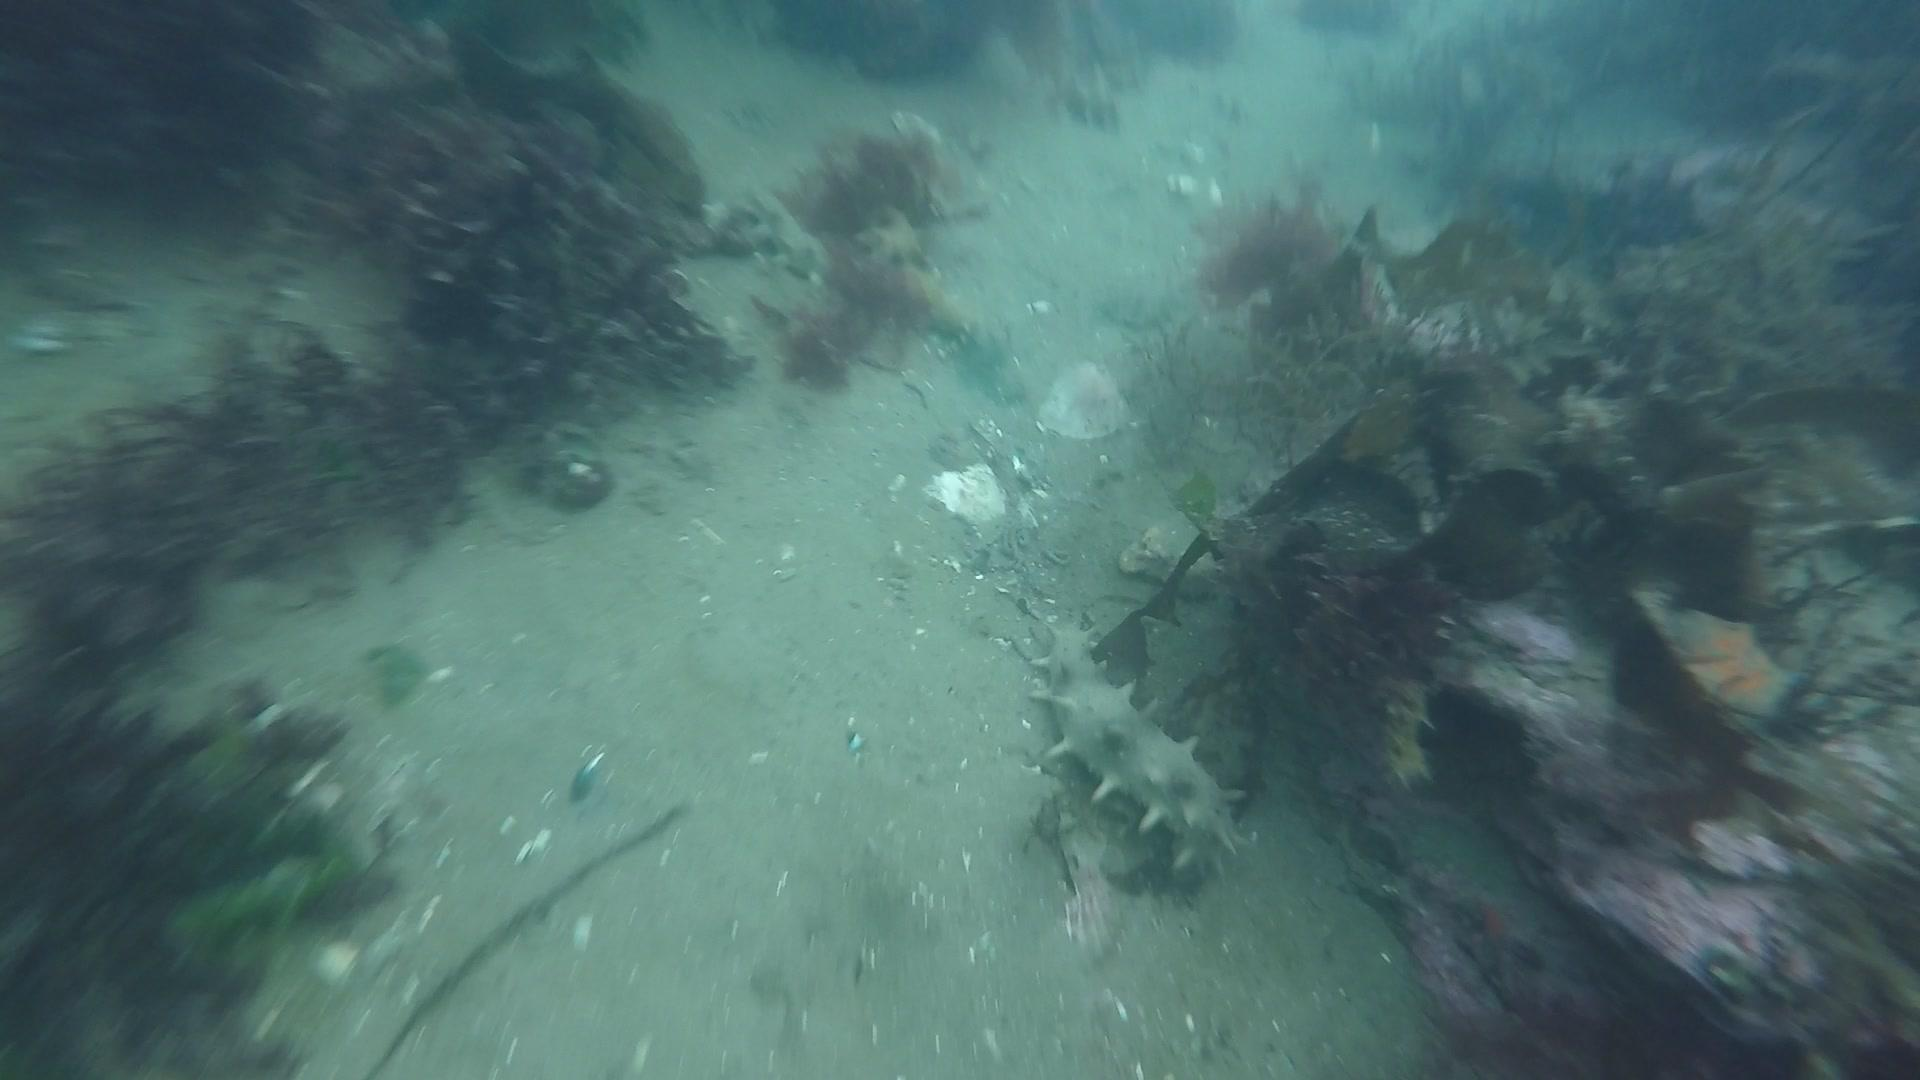holothurian: (1021, 622, 1253, 882), (856, 204, 982, 351), (744, 182, 837, 291)
scallop: (1030, 353, 1135, 447)
